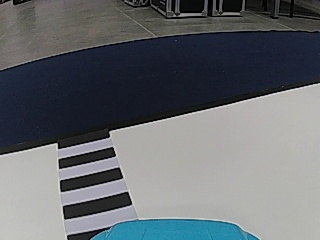CrossWalk: (57, 139, 137, 220)
